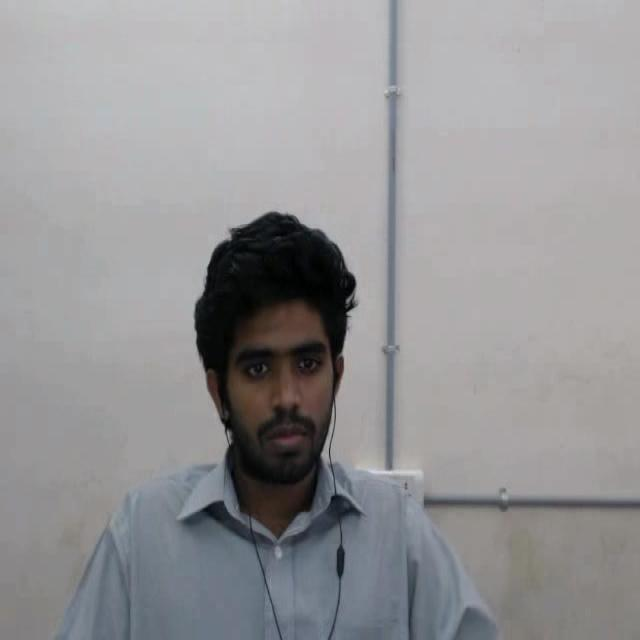Engaged: (178, 197, 400, 530)
